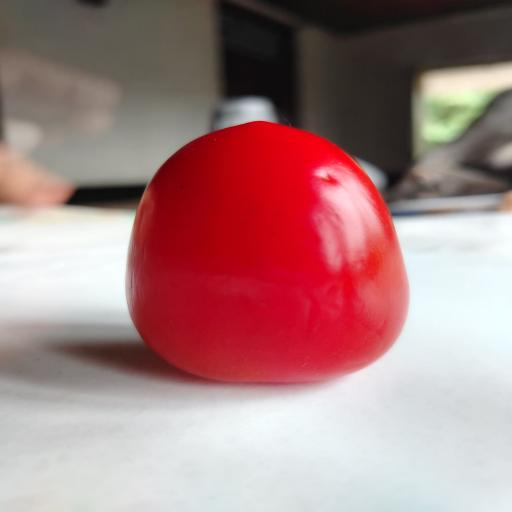ripe: (126, 122, 408, 382)
